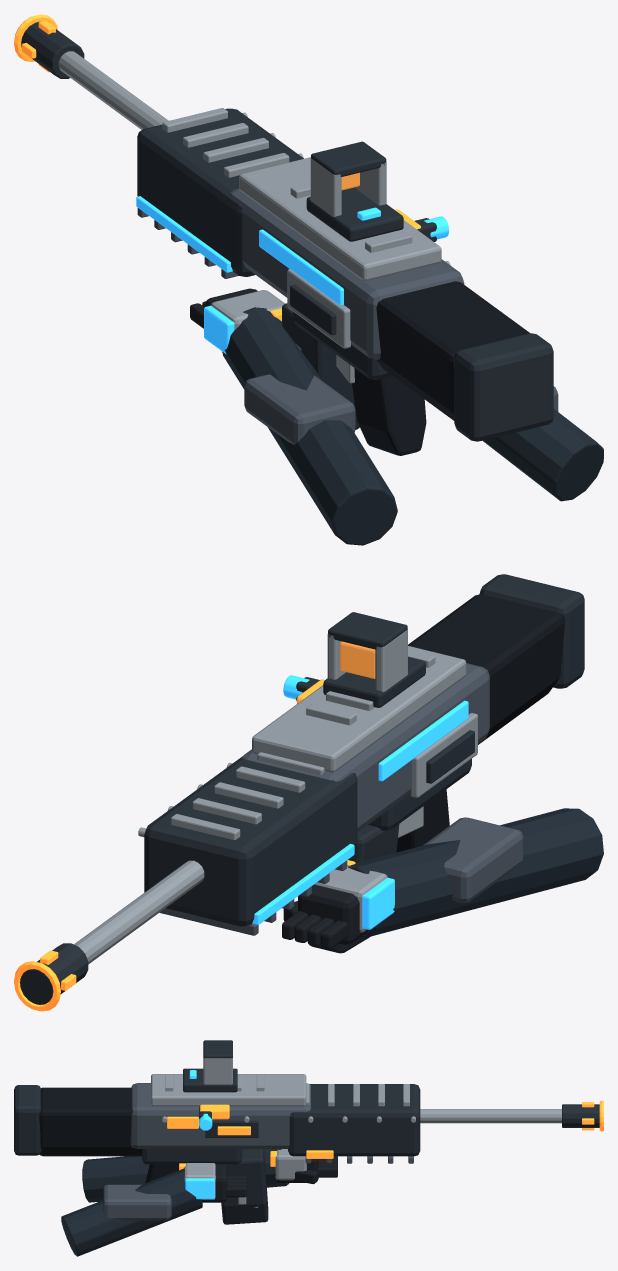
File: zap-fp-rifle-50.glb
3 renders of one model, top to bottom at view 1: azimuth 30°, elevation 25°; view 2: azimuth 150°, elevation 25°; view 3: azimuth 270°, elevation 25°, orthographic. The views are drawn at different scales.
Visible parts, largest first — view 1: FP50_RifleBody, FP50_LeftArm, FP50_RightArm, FP50_Magazine; view 2: FP50_RifleBody, FP50_LeftArm, FP50_Magazine; view 3: FP50_RifleBody, FP50_RightArm, FP50_LeftArm, FP50_Magazine.
Part boxes in pixels (left/top/right/bottom): FP50_RifleBody: left=14, top=14, right=553, bottom=455; FP50_LeftArm: left=190, top=288, right=397, bottom=545; FP50_RightArm: left=483, top=386, right=603, bottom=501; FP50_Magazine: left=282, top=303, right=359, bottom=429; FP50_RifleBody: left=14, top=574, right=584, bottom=1011; FP50_LeftArm: left=282, top=808, right=603, bottom=949; FP50_Magazine: left=309, top=824, right=399, bottom=953; FP50_RifleBody: left=14, top=1040, right=603, bottom=1183; FP50_RightArm: left=61, top=1163, right=246, bottom=1256; FP50_LeftArm: left=82, top=1149, right=337, bottom=1202; FP50_Magazine: left=221, top=1149, right=268, bottom=1224.
Size of the model in its own units: 0.8016 by 0.8676 by 2.58.
